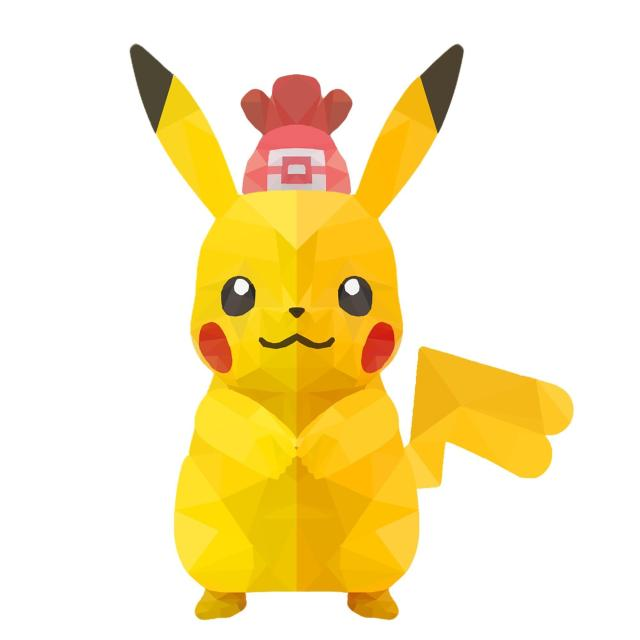pikachu: (128, 44, 574, 620)
